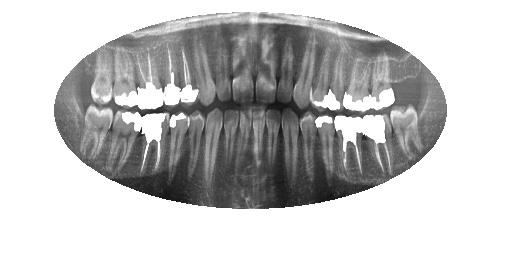i10healthy: (221, 108, 240, 177)
i11healthy: (204, 106, 224, 193)
i12healthy: (184, 110, 205, 185)
i13healthy: (167, 109, 190, 186)
i14healthy: (137, 109, 171, 187)
i15healthy: (103, 107, 143, 186)
i16healthy: (78, 100, 115, 162)
i1healthy: (388, 101, 428, 160)
i2healthy: (359, 108, 399, 178)
i3healthy: (333, 107, 365, 187)
i4healthy: (311, 109, 339, 190)
i5healthy: (299, 108, 318, 192)
i6healthy: (280, 105, 305, 190)
i7healthy: (263, 105, 282, 184)
i8healthy: (250, 105, 267, 184)
i9decay: (237, 107, 253, 175)
u10healthy: (210, 32, 234, 105)
u11healthy: (189, 33, 219, 108)
u12healthy: (171, 39, 200, 107)
u13healthy: (160, 43, 182, 106)
u14healthy: (131, 48, 168, 112)
u15healthy: (111, 47, 138, 113)
u16healthy: (89, 50, 115, 109)
u1loss: (386, 51, 420, 97)
u2healthy: (368, 43, 396, 114)
u3healthy: (339, 49, 374, 114)
u4healthy: (324, 41, 349, 112)
u5healthy: (308, 40, 333, 112)
u6healthy: (288, 24, 318, 111)
u7healthy: (272, 31, 296, 108)
u8healthy: (253, 34, 278, 107)
u9healthy: (229, 33, 257, 105)
